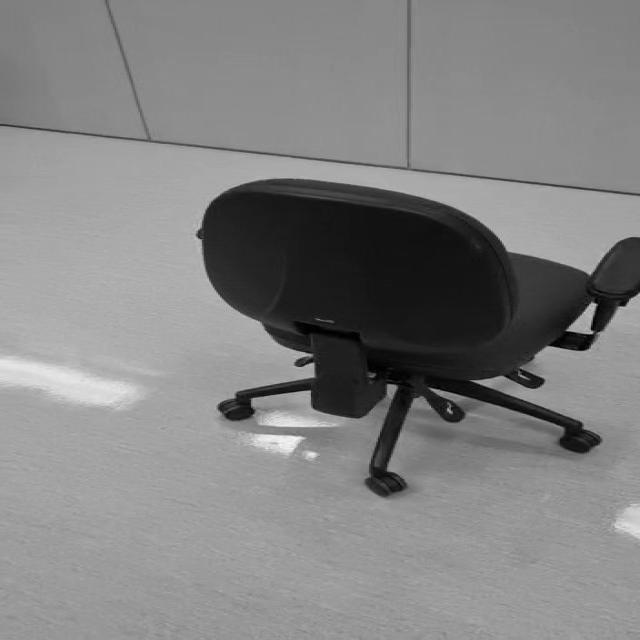cadeira-azul: (197, 177, 640, 498)
